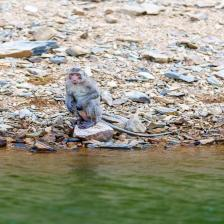monkey: (54, 54, 120, 138)
